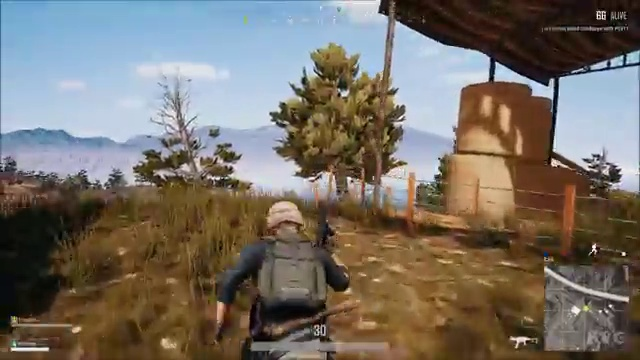Player: (189, 181, 370, 322)
